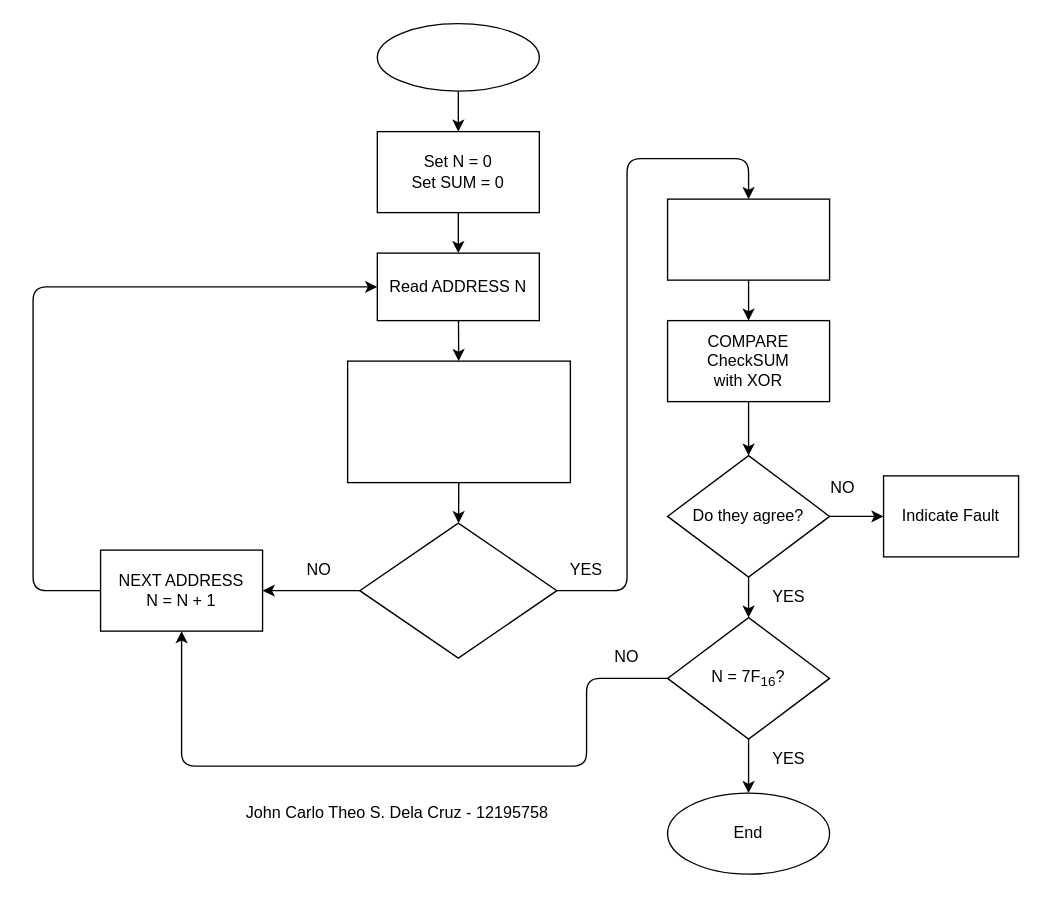
Some shapes in this 1042 by 898 pixel diagram are drawn without their labels. The box of each missing label's shape, as (x1, y1, x2, y2) in pixels:
Last data Adress ROM ?: (358, 522, 557, 658)
READ CheckSUM Address: (666, 198, 830, 280)
Start: (376, 22, 539, 91)
XOR contents of address N UPDATE SUM: (346, 360, 570, 483)
